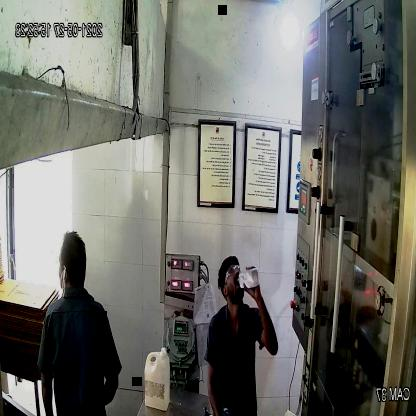goggles: (222, 263, 243, 290)
